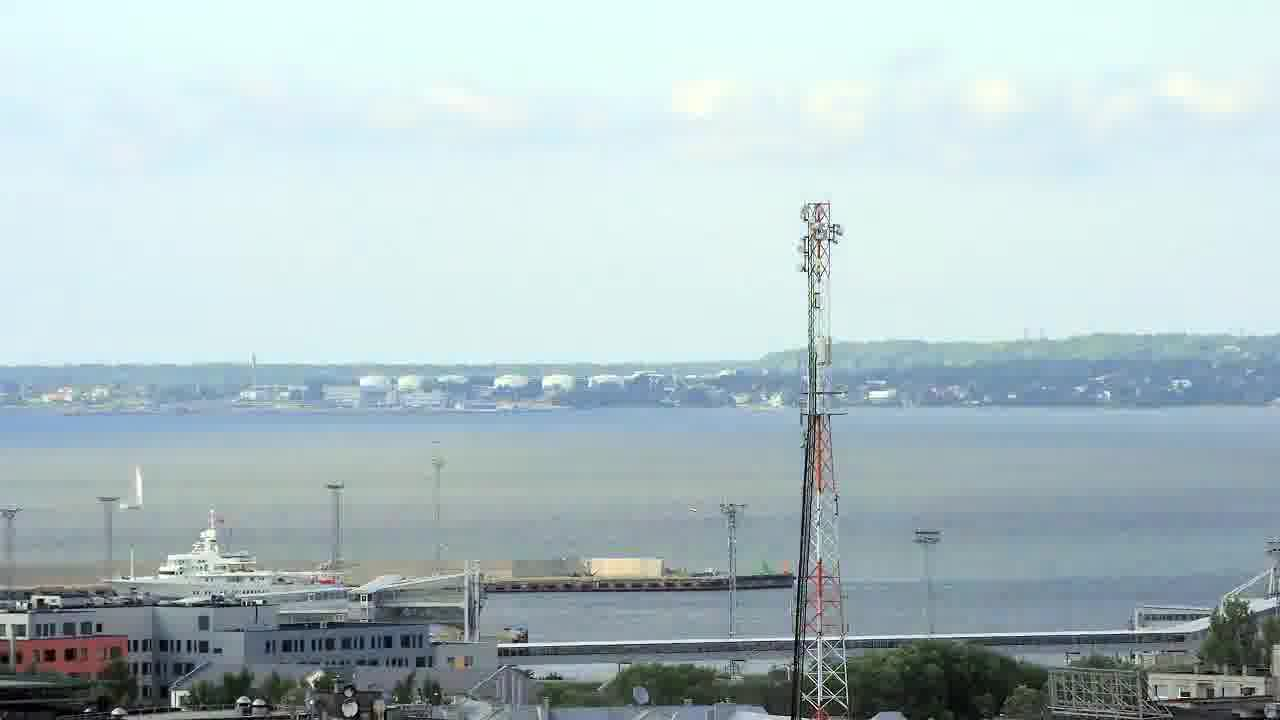type-2: (110, 451, 159, 521)
type-3: (84, 515, 355, 603)
